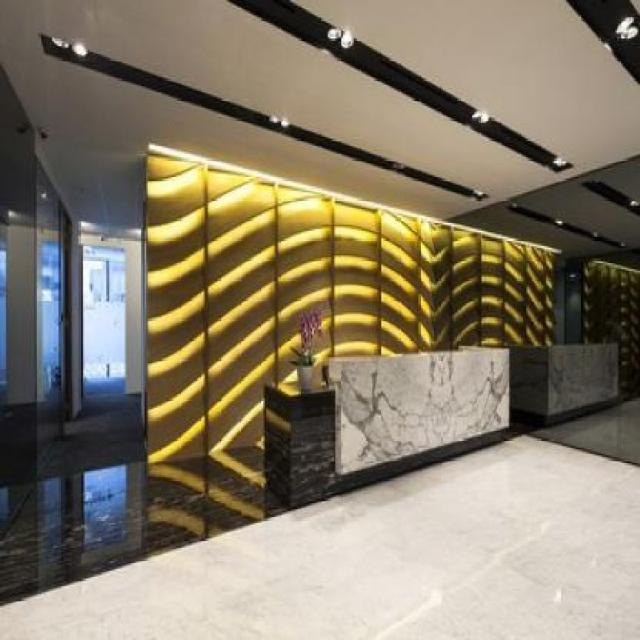frontdesk: (246, 337, 625, 517)
